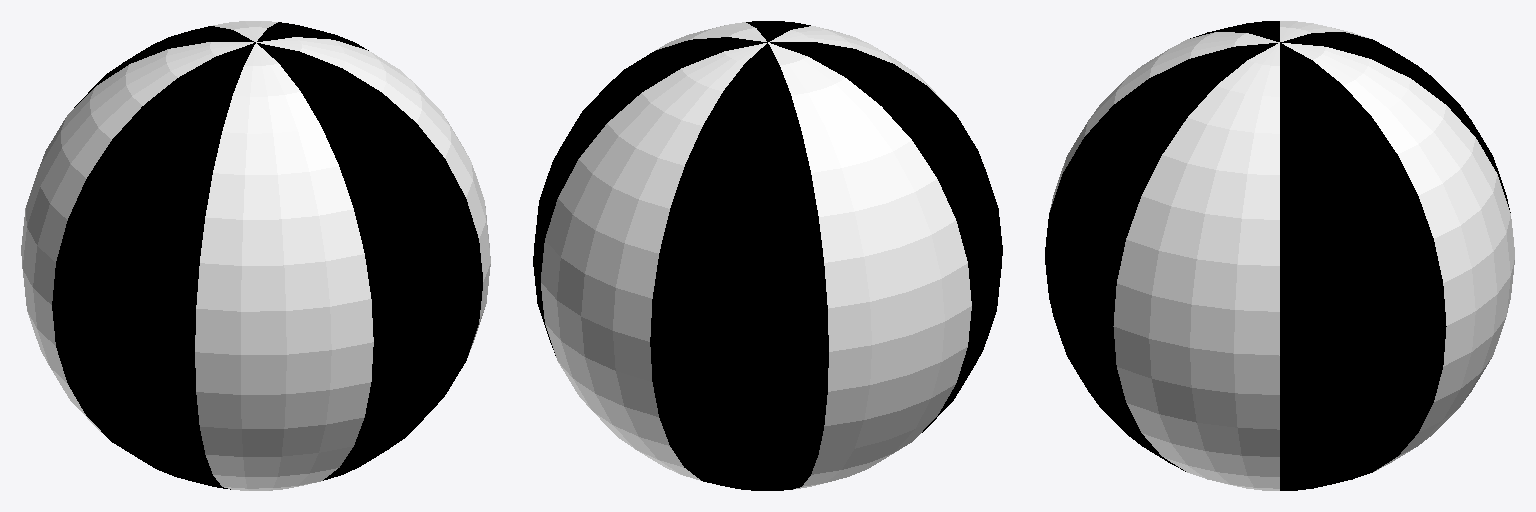
Rendered from beach_ball.obj.
The picture shows the model from 3 angles: view 1: azimuth 30°, elevation 25°; view 2: azimuth 150°, elevation 25°; view 3: azimuth 270°, elevation 25°; orthographic projection.
Visible parts, largest first — view 1: Sphere_Sphere.001; view 2: Sphere_Sphere.001; view 3: Sphere_Sphere.001.
Boxes of the visible parts, x1,y1,x2,y2 form: Sphere_Sphere.001: [21, 21, 490, 490]; Sphere_Sphere.001: [533, 21, 1002, 490]; Sphere_Sphere.001: [1045, 21, 1514, 490].
Size of the model in its own units: 2 by 2 by 2.